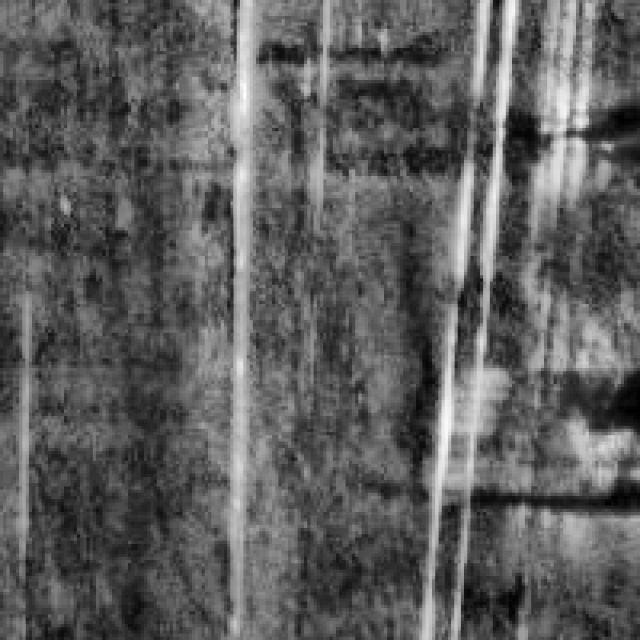Inclusion: (413, 0, 512, 630), (198, 0, 262, 627)
Patches: (436, 448, 636, 522), (461, 86, 637, 160), (518, 368, 637, 435)
